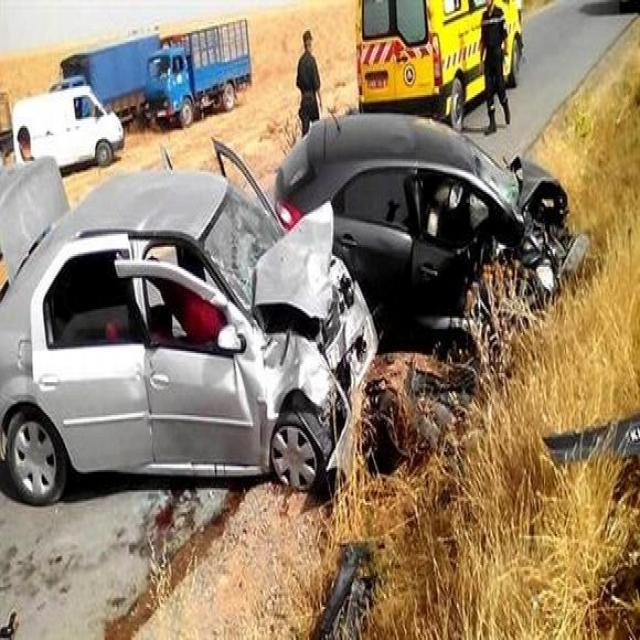accident: (0, 117, 590, 509)
non-accident: (11, 19, 253, 175)
